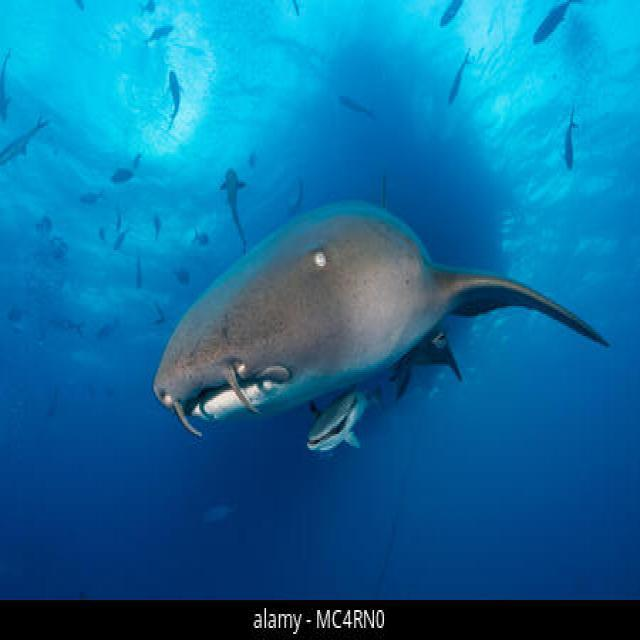Shark: (107, 146, 617, 464)
